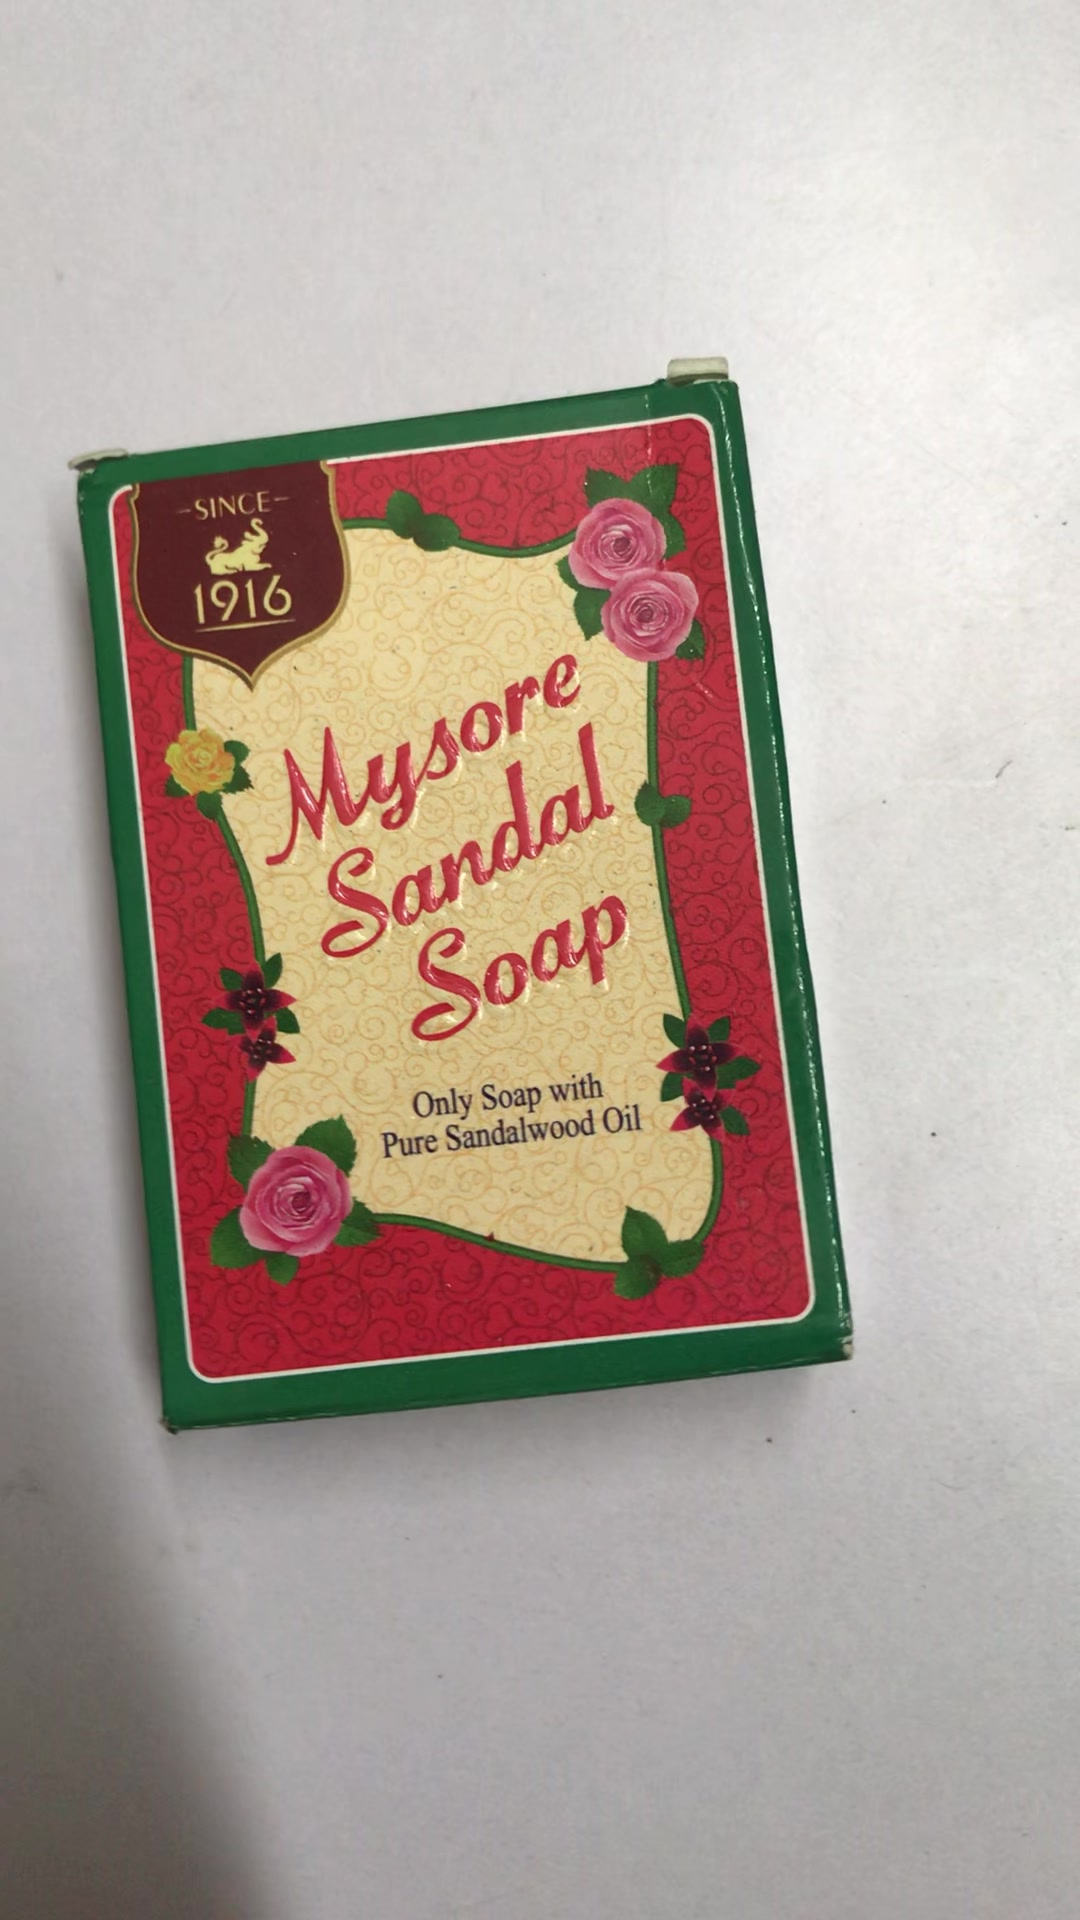mysore sandal soap: (74, 375, 855, 1422)
